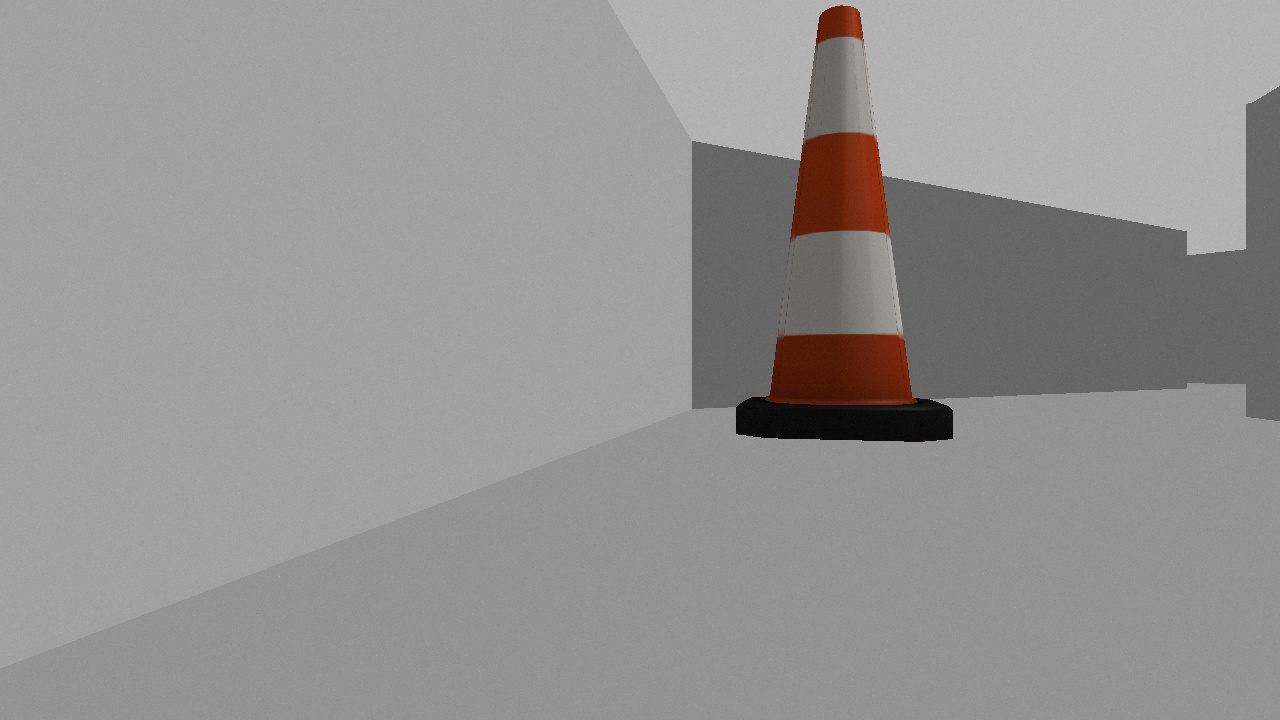barricade: (733, 2, 956, 443)
